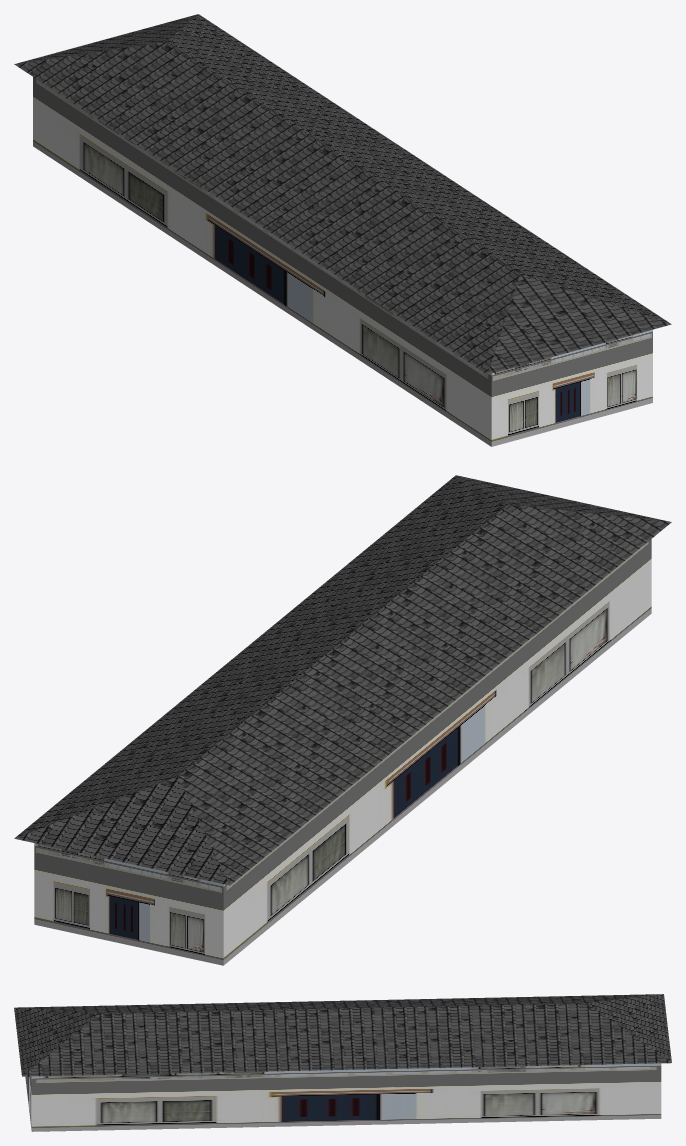
The picture shows the model from 3 angles, top to bottom: view 1: azimuth 30°, elevation 25°; view 2: azimuth 150°, elevation 25°; view 3: azimuth 270°, elevation 25°; orthographic projection. The views are drawn at different scales.
Visible parts, largest first — view 1: CityEngineMaterial_8_m, CityEngineMaterial_7_m; view 2: CityEngineMaterial_8_m, CityEngineMaterial_7_m; view 3: CityEngineMaterial_8_m, CityEngineMaterial_7_m.
Part boxes in pixels (box(x1,y1,x2,y2)): CityEngineMaterial_8_m: box(14, 14, 671, 374); CityEngineMaterial_7_m: box(33, 77, 652, 446); CityEngineMaterial_8_m: box(14, 475, 671, 885); CityEngineMaterial_7_m: box(34, 539, 651, 965); CityEngineMaterial_8_m: box(14, 994, 671, 1076); CityEngineMaterial_7_m: box(25, 1063, 661, 1131).
Bounding box in the file's own units: 18.01 × 8.83 × 60.7.
